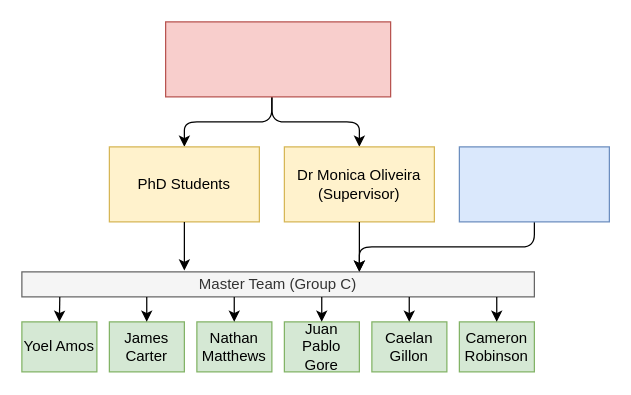
Image size: 631x395. Some labels were removed from this diagram. The shapes that lost their labels are listed below. From the top down, each one's centre as x and y in pixels, then its label:
the point at 277,59: James Weir Fluid Lab (JWFL)
the point at 533,184: Mr Drew Irvine (Workshop)
